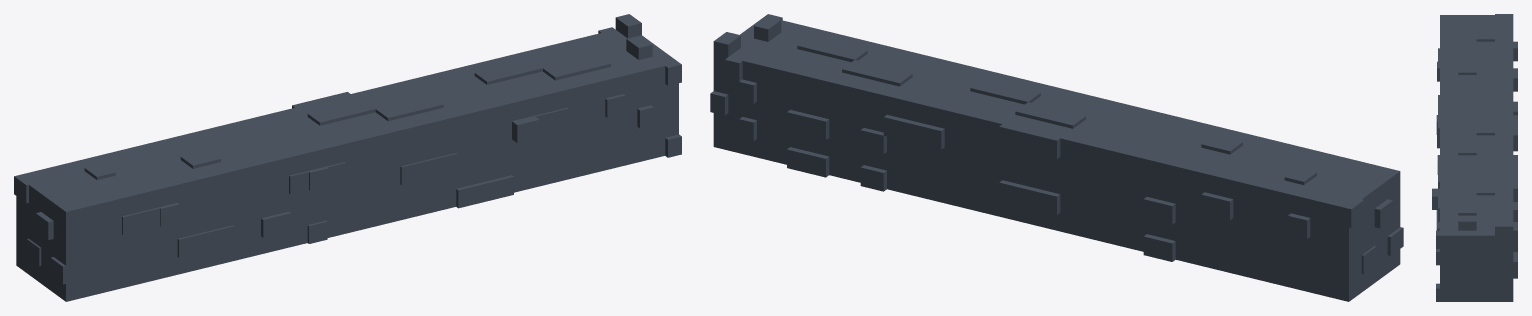
Rendered from wall.fbx.
The picture shows the model from 3 angles, left to right: view 1: azimuth 30°, elevation 25°; view 2: azimuth 150°, elevation 25°; view 3: azimuth 270°, elevation 25°; orthographic projection. The views are drawn at different scales.
Visible parts, largest first — view 1: Cube; view 2: Cube; view 3: Cube.
Part boxes in pixels (x1,y1,x2,y2): Cube: (14, 14, 681, 301); Cube: (710, 14, 1403, 301); Cube: (1432, 14, 1517, 301).
Size of the model in its own units: 1439 by 227 by 235.
Materials: 1 (1 with a texture image).
